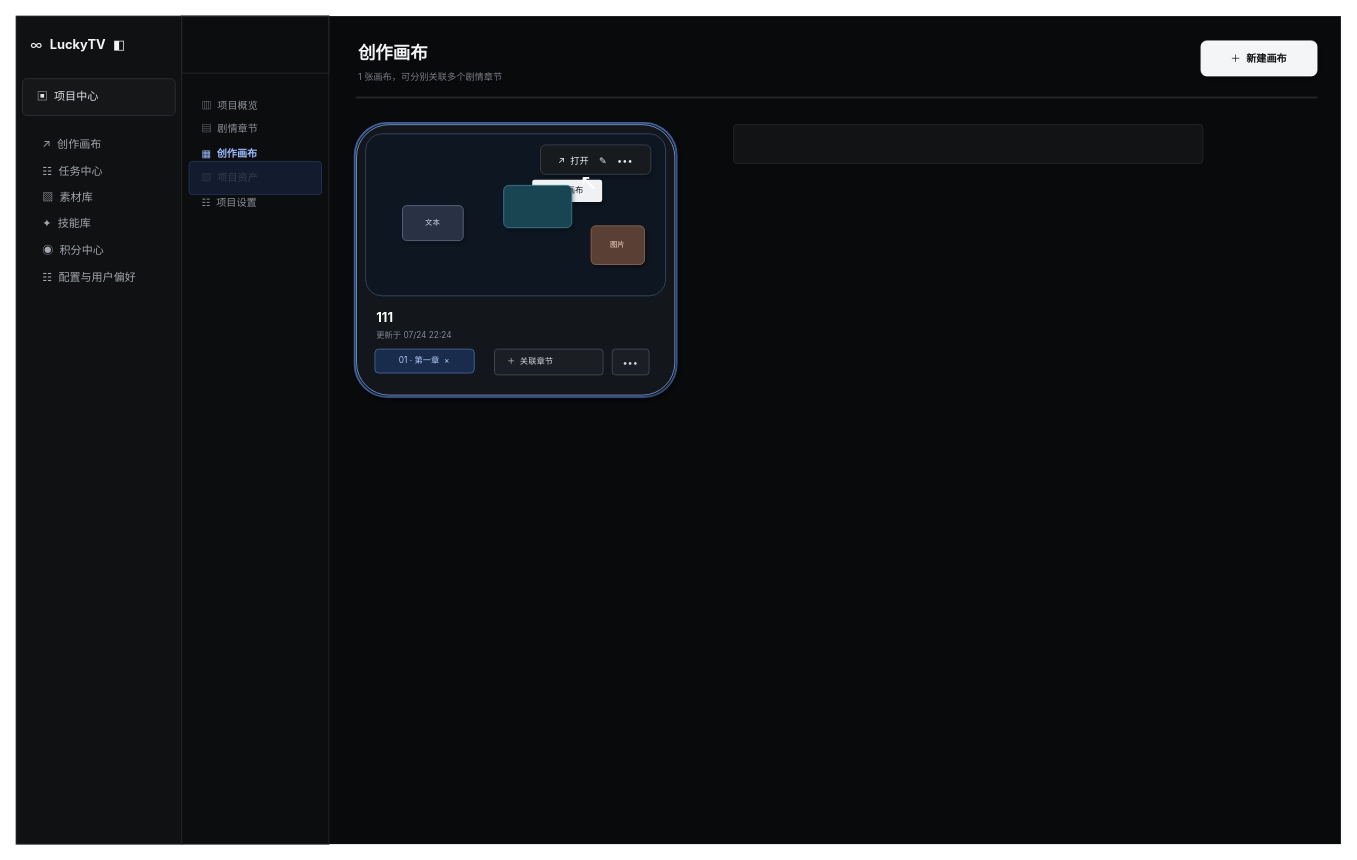
This 1357x860 diagram has some shape labels left out. Each missing label, with the centre of its shape:
"‹ ▱ 测试项目 1 ● 进行中" belongs at point 255,44.
"分镜" belongs at point 538,207.
"悬停反馈：卡片上移 2px，描边变亮，节点表面增强；快捷工具条 160ms 淡入，离开即消失。" belongs at point 968,143.
